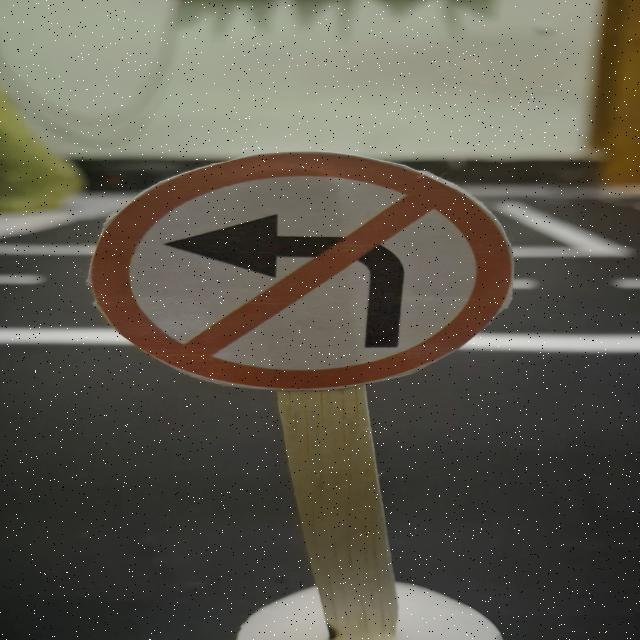Dilarang Belok Kiri: (90, 150, 512, 388)
